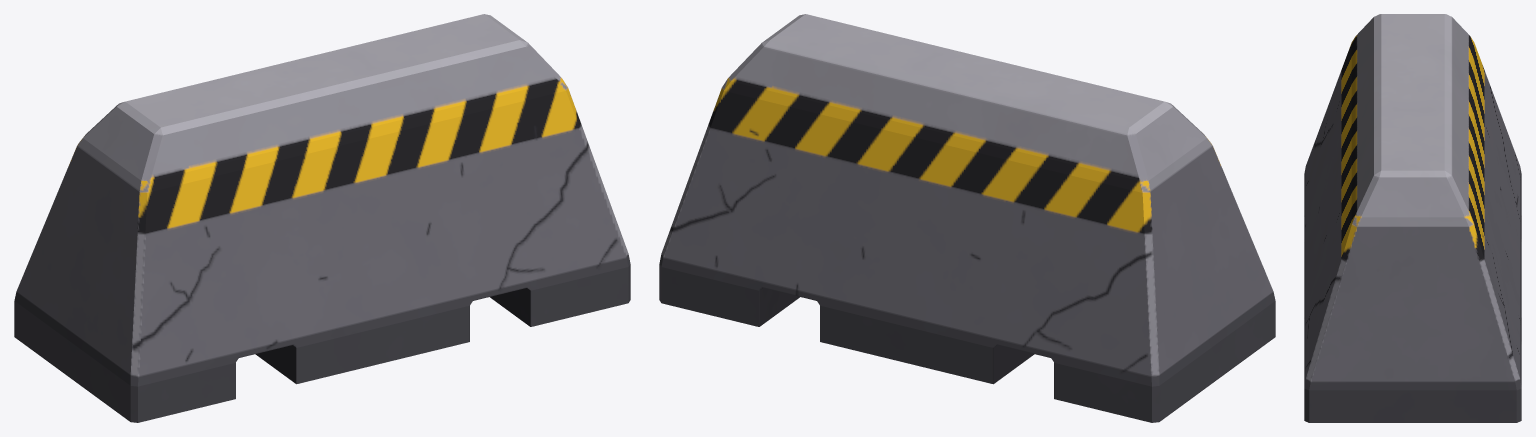
File: Env_RoadBarrier.fbx
3 views of the same model, side by side, from view 1: azimuth 30°, elevation 25°; view 2: azimuth 150°, elevation 25°; view 3: azimuth 270°, elevation 25° (orthographic). The views are drawn at different scales.
Parts seen in each view (by area): view 1: Env_RoadBarrier; view 2: Env_RoadBarrier; view 3: Env_RoadBarrier.
Part boxes in pixels (box(x1,y1,x2,y2)): Env_RoadBarrier: box(14, 14, 630, 422); Env_RoadBarrier: box(659, 14, 1275, 422); Env_RoadBarrier: box(1304, 14, 1521, 422).
Size of the model in its own units: 1.9 by 0.9 by 0.8.
1 material, 1 textured.
